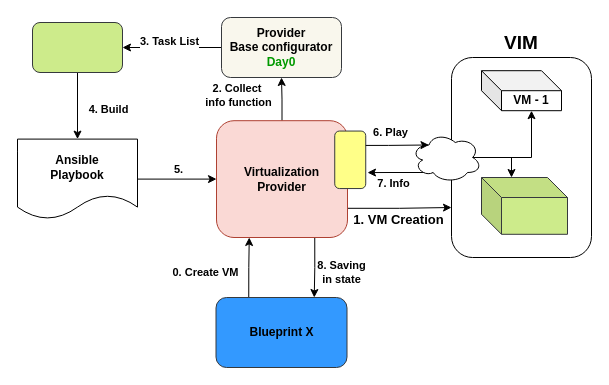
This 609x385 diagram has some shape labels left out. Each missing label, with the centre of its shape:
Ansible Builder: pixel 77 47
Created VM - N: pixel 524 205
SSH: pixel 350 159
